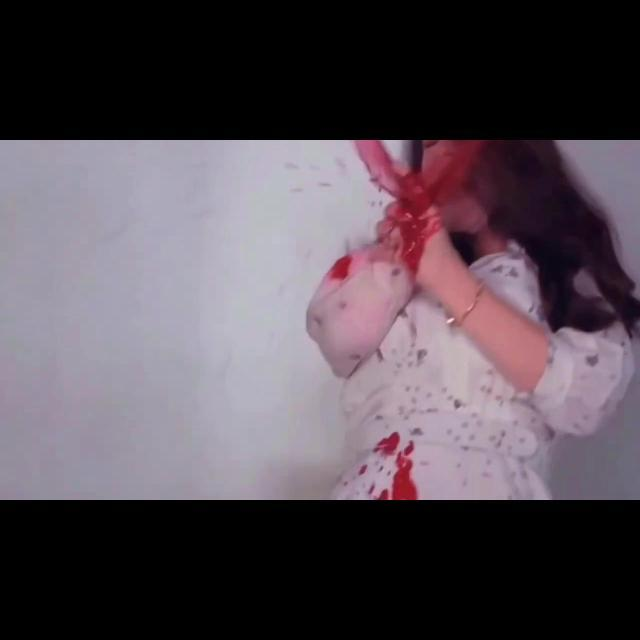blood: (356, 140, 484, 296), (333, 430, 419, 500), (358, 411, 390, 444), (325, 254, 360, 280)
